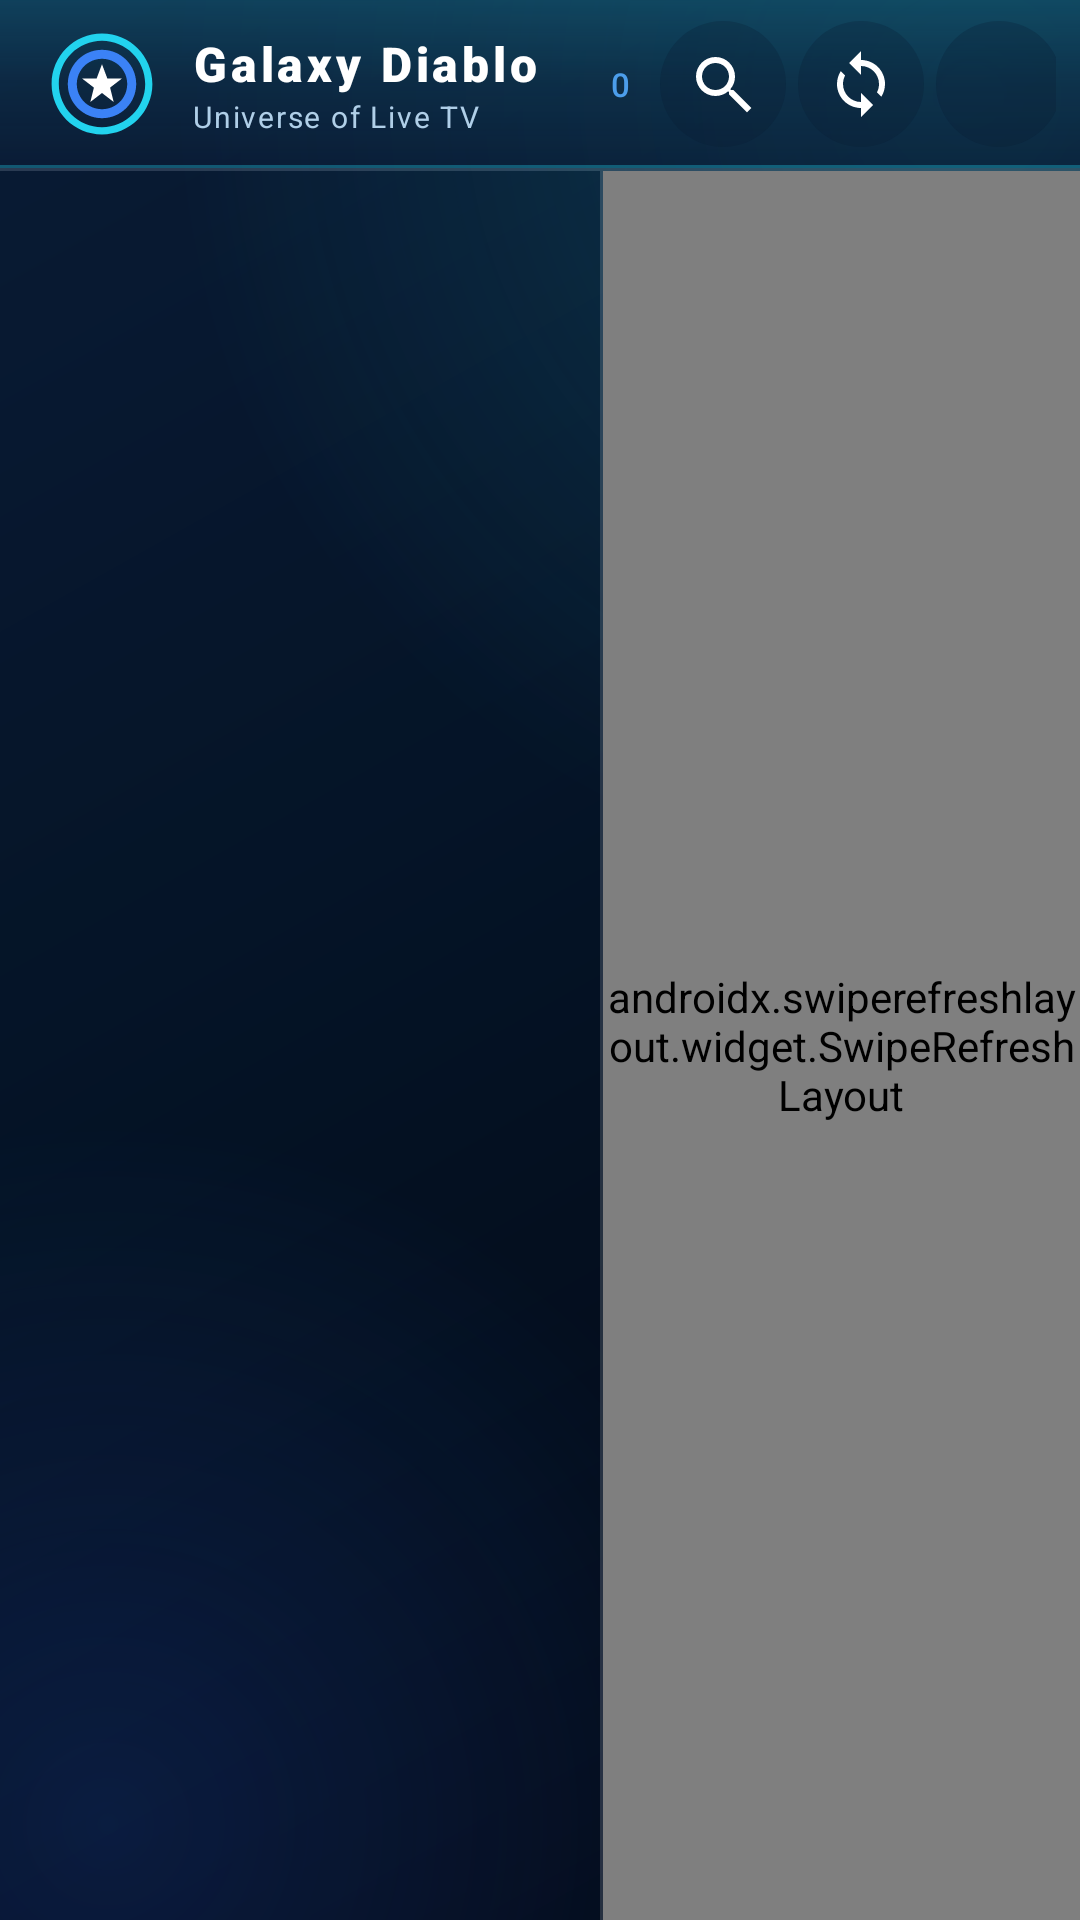

Icons on this 1080px x 1920px Android screen, each with the point to tap as point (x, y):
Cari: point (723, 84)
Cuba semula: point (850, 72)
